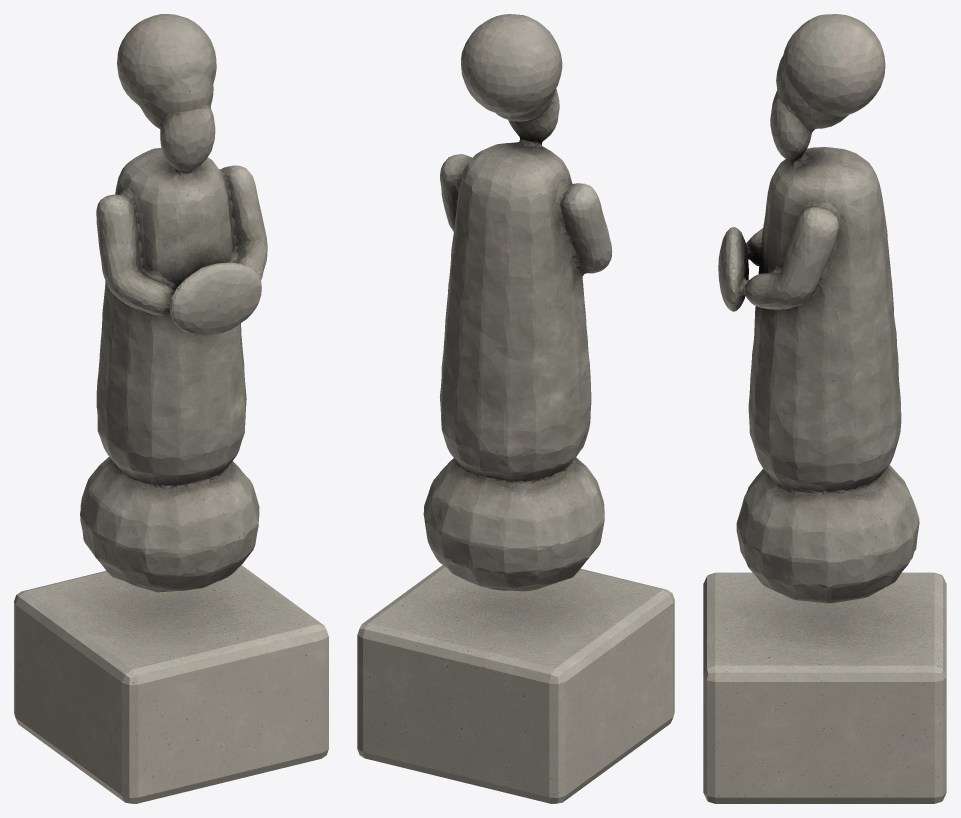
File: dg_estatua_sabio.glb
3 views of the same model, side by side, from view 1: azimuth 30°, elevation 25°; view 2: azimuth 150°, elevation 25°; view 3: azimuth 270°, elevation 25° (orthographic). The views are drawn at different scales.
Visible parts, largest first — view 1: dg_estatua_sabio_tronco; view 2: dg_estatua_sabio_tronco; view 3: dg_estatua_sabio_tronco.
Part boxes in pixels (left/top/right/bottom): dg_estatua_sabio_tronco: left=14, top=14, right=328, bottom=803; dg_estatua_sabio_tronco: left=357, top=14, right=674, bottom=803; dg_estatua_sabio_tronco: left=703, top=14, right=946, bottom=803.
Bounding box in the file's own units: 0.8 × 2.68 × 0.8.
1 material, 1 textured.
